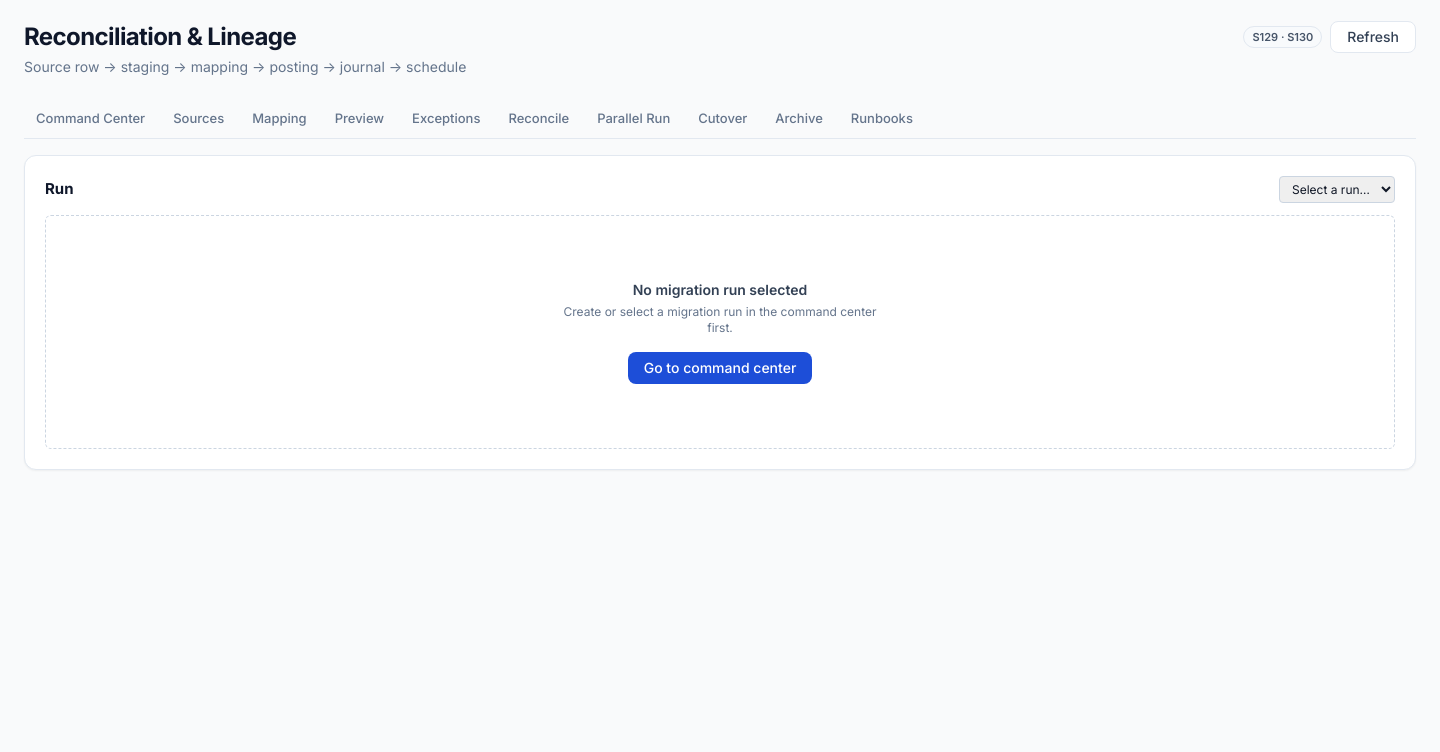
Test case: MigrationReconcile › shows the whole drill path from source row to journal
The image size is (1440, 752).
Select "run-a" in the dropdown with test id "reconcile-run-select". click: (1337, 189)
box: [1279, 176, 1395, 202]
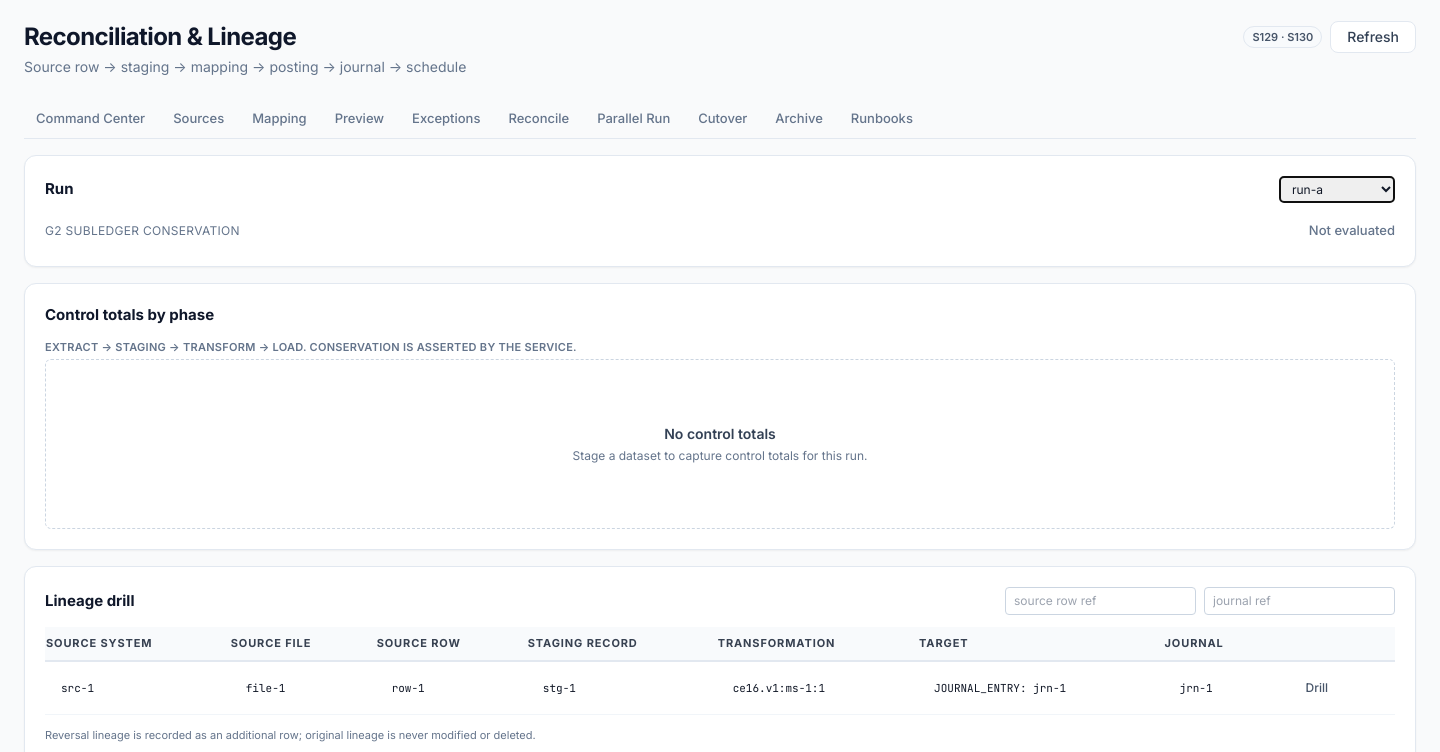
Result: the row with test id "lineage-row-ln-1" is shown at [45, 660, 1395, 714]
Result: the cell with test id "lineage-journal-ln-1" reads "jrn-1" at [1180, 680, 1212, 694]
Click the button with test id "lineage-expand-ln-1". click: (1317, 688)
box: [1294, 674, 1340, 702]
(page scrolled)
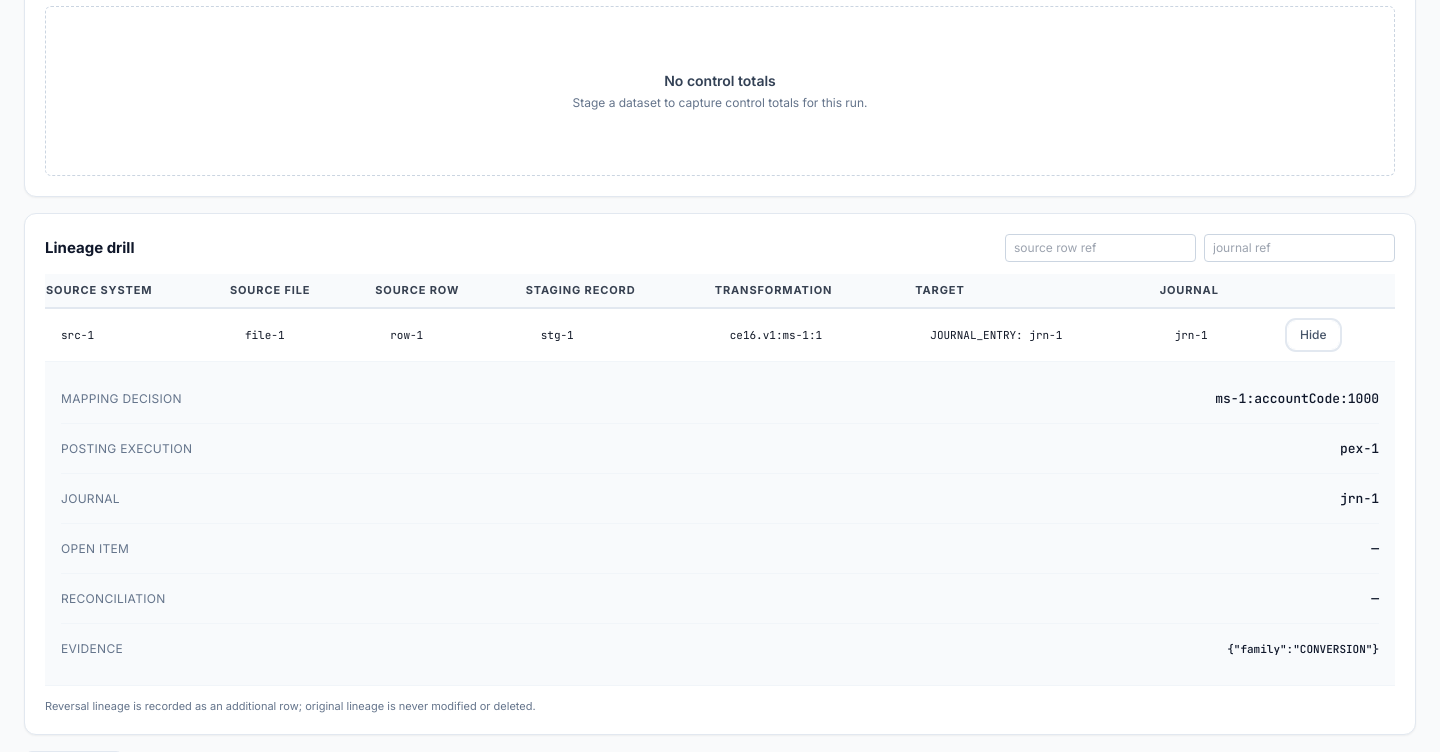
Result: the row with test id "lineage-detail-ln-1" shows "pex-1" at [1340, 440, 1379, 456]
Result: the row with test id "lineage-detail-ln-1" shows "ms-1:accountCode:1000" at [1215, 390, 1379, 406]
